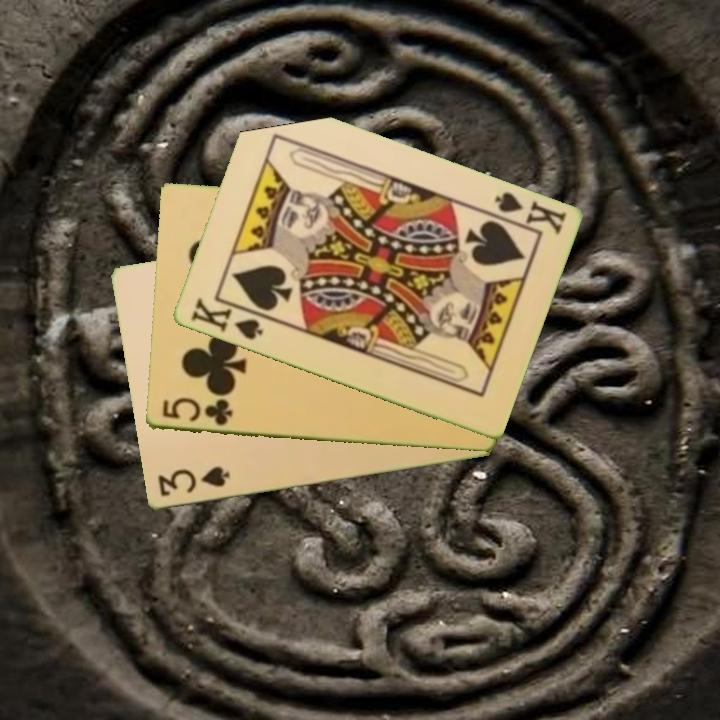3s: (154, 463, 233, 500)
5c: (158, 394, 235, 429)
Ks: (484, 189, 569, 238), (187, 294, 270, 343)
